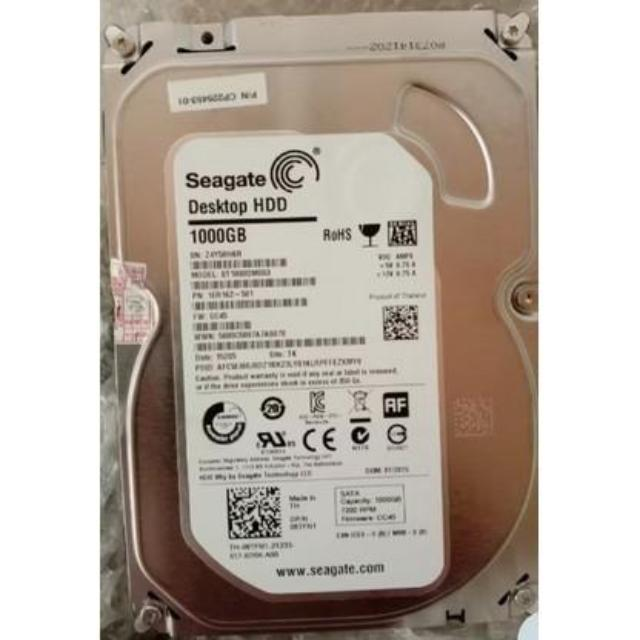DISK: (105, 18, 540, 640)
